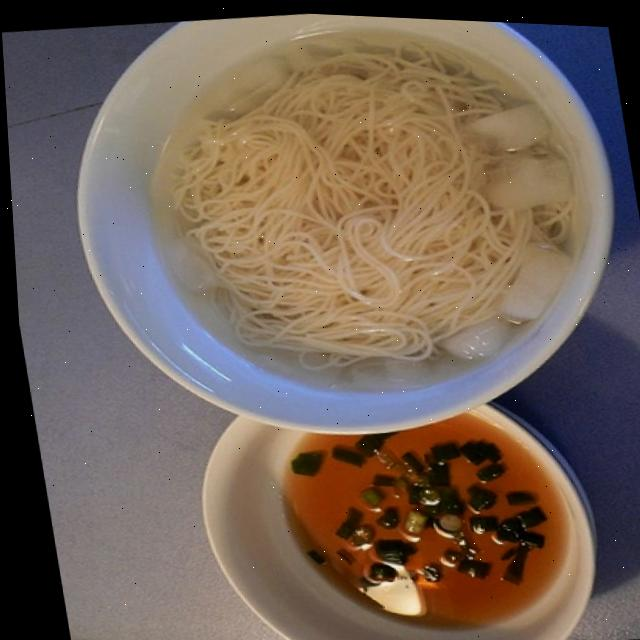面条主食: (39, 1, 640, 477)
